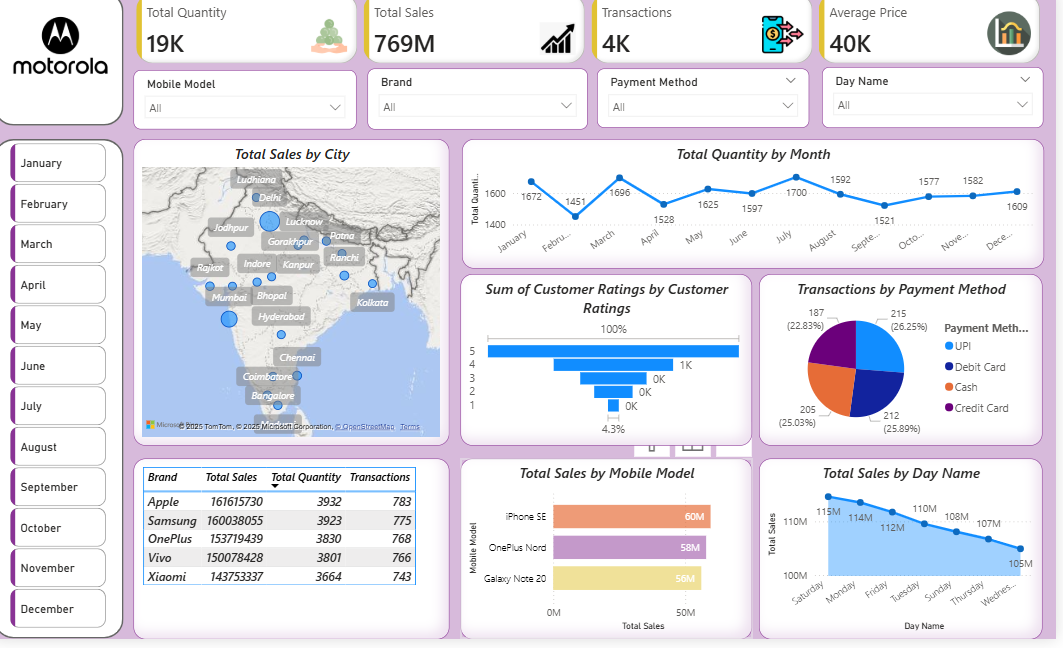

This screenshot's page, from the dashboard's own definition file:
{"tool":"powerbi","page":{"name":"Page 1","canvas":[1312,799],"ordinal":0},"visuals":[{"type":"shape","box":[0,0,160,165],"z":0},{"type":"image","box":[8.3,0,143.3,143.3],"z":1000},{"type":"shape","box":[0,181.7,160,616.7],"z":2000},{"type":"advancedSlicerVisual","fields":{"Values":["Mobile_salesdata.Date.Variation.Date Hierarchy.Month"]},"box":[15,181.7,128.3,616.7],"z":3000},{"type":"cardVisual","fields":{"Data":["Mobile_salesdata.Total Quantity","Mobile_salesdata.Total Sales","Mobile_salesdata.Transactions","Mobile_salesdata.Average Price"]},"box":[171.7,0,1123.3,90],"z":4000},{"type":"map","fields":{"Category":["Mobile_salesdata.City"],"Size":["Mobile_salesdata.Total Sales"]},"box":[171.7,181.7,390,378.3],"z":5000},{"type":"lineChart","fields":{"Category":["Mobile_salesdata.Date.Variation.Date Hierarchy.Month","Mobile_salesdata.Date.Variation.Date Hierarchy.Day"],"Y":["Mobile_salesdata.Total Quantity"]},"box":[578.3,181.7,718.3,160],"z":6000},{"type":"clusteredBarChart","fields":{"Category":["Mobile_salesdata.Mobile Model"],"Y":["Mobile_salesdata.Total Sales"]},"box":[576.7,575,360,223.3],"z":7000},{"type":"pieChart","fields":{"Y":["Mobile_salesdata.Transactions"],"Category":["Mobile_salesdata.Payment Method"]},"box":[945,348.3,350,211.7],"z":8000},{"type":"funnel","fields":{"Y":["Sum(Mobile_salesdata.Customer Ratings)"],"Category":["Mobile_salesdata.Customer Ratings"]},"box":[576.7,348.3,360,211.7],"z":9000},{"type":"areaChart","fields":{"Category":["Mobile_salesdata.Day Name"],"Y":["Mobile_salesdata.Total Sales"]},"box":[945,575,350,223.3],"z":10000},{"type":"tableEx","fields":{"Values":["Mobile_salesdata.Brand","Mobile_salesdata.Total Sales","Mobile_salesdata.Total Quantity","Mobile_salesdata.Transactions"]},"box":[171.7,575,390,223.3],"z":12000},{"type":"slicer","fields":{"Values":["Mobile_salesdata.Day Name"]},"box":[1021.7,91.7,273.3,75],"z":13000},{"type":"slicer","fields":{"Values":["Mobile_salesdata.Mobile Model"]},"box":[171.7,96.7,275,73.3],"z":14000},{"type":"slicer","fields":{"Values":["Mobile_salesdata.Payment Method"]},"box":[745,95,261.7,73.3],"z":15000},{"type":"slicer","fields":{"Values":["Mobile_salesdata.Brand"]},"box":[461.7,95,271.7,75],"z":16000}]}

Visuals, with their boxes in screenshot pixels (x1, y1, x2, y2), scaled from the page's 1312x799 canvas onto the 1063x648 screenshot:
shape: BBox(0, 0, 130, 134)
image: BBox(7, 0, 123, 116)
shape: BBox(0, 147, 130, 647)
advancedSlicerVisual - Mobile_salesdata.Date.Variation.Date Hierarchy.Month: BBox(12, 147, 116, 647)
cardVisual - Mobile_salesdata.Total Quantity x Mobile_salesdata.Total Sales: BBox(139, 0, 1049, 73)
map - Mobile_salesdata.City x Mobile_salesdata.Total Sales: BBox(139, 147, 455, 454)
lineChart - Mobile_salesdata.Date.Variation.Date Hierarchy.Month x Mobile_salesdata.Date.Variation.Date Hierarchy.Day: BBox(469, 147, 1051, 277)
clusteredBarChart - Mobile_salesdata.Mobile Model x Mobile_salesdata.Total Sales: BBox(467, 466, 759, 647)
pieChart - Mobile_salesdata.Transactions x Mobile_salesdata.Payment Method: BBox(766, 282, 1049, 454)
funnel - Sum(Mobile_salesdata.Customer Ratings) x Mobile_salesdata.Customer Ratings: BBox(467, 282, 759, 454)
areaChart - Mobile_salesdata.Day Name x Mobile_salesdata.Total Sales: BBox(766, 466, 1049, 647)
tableEx - Mobile_salesdata.Brand x Mobile_salesdata.Total Sales: BBox(139, 466, 455, 647)
slicer - Mobile_salesdata.Day Name: BBox(828, 74, 1049, 135)
slicer - Mobile_salesdata.Mobile Model: BBox(139, 78, 362, 138)
slicer - Mobile_salesdata.Payment Method: BBox(604, 77, 816, 136)
slicer - Mobile_salesdata.Brand: BBox(374, 77, 594, 138)
